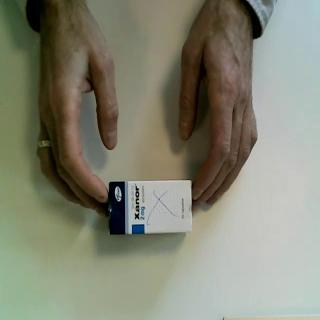xanor2mg: (108, 178, 195, 237)
